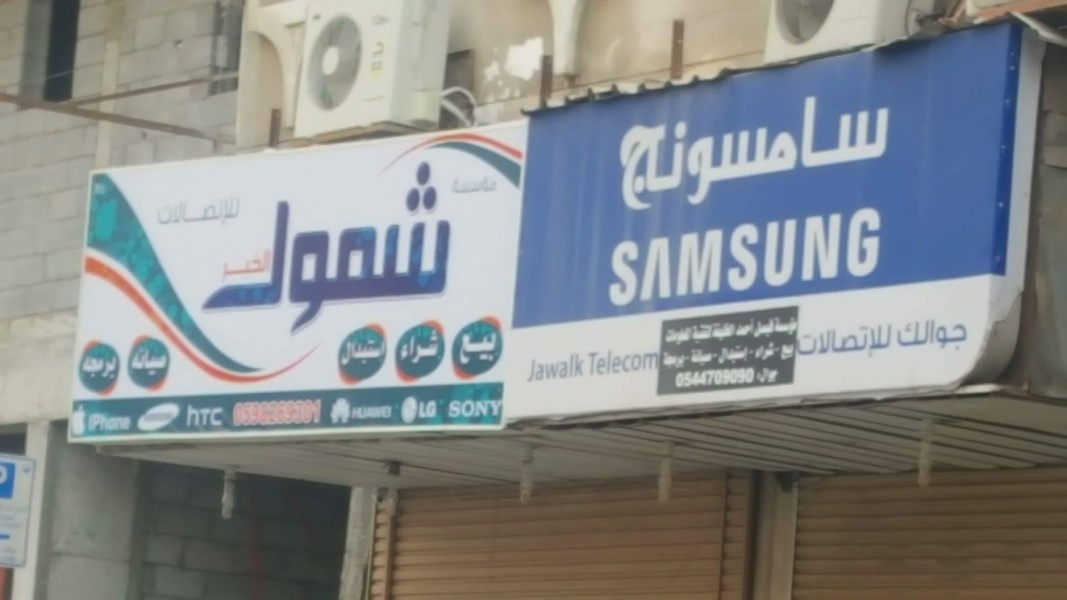text: (193, 154, 208, 346), (209, 154, 224, 346), (225, 154, 240, 346), (241, 154, 256, 346), (257, 154, 272, 346), (273, 154, 288, 346), (289, 154, 304, 346), (305, 154, 320, 346), (321, 154, 336, 346), (337, 154, 352, 346), (353, 154, 368, 346), (369, 154, 384, 346), (385, 154, 400, 346), (401, 154, 416, 346), (417, 154, 432, 346), (433, 154, 448, 346), (625, 83, 640, 219), (641, 83, 656, 219), (657, 83, 672, 219), (673, 83, 688, 219), (689, 83, 704, 219), (705, 83, 720, 219), (721, 83, 736, 219), (737, 83, 752, 219), (753, 83, 768, 219), (769, 83, 784, 219), (785, 83, 800, 219), (801, 83, 816, 219), (817, 83, 832, 219), (833, 83, 848, 219), (849, 83, 864, 219), (865, 83, 880, 219), (881, 83, 896, 219), (609, 203, 624, 309), (625, 203, 640, 309), (641, 203, 656, 309), (657, 203, 672, 309), (673, 203, 688, 309), (689, 203, 704, 309), (705, 203, 720, 309), (721, 203, 736, 309), (737, 203, 752, 309), (753, 203, 768, 309), (769, 203, 784, 309), (785, 203, 800, 309), (801, 203, 816, 309), (817, 203, 832, 309), (833, 203, 848, 309), (849, 203, 864, 309), (865, 203, 880, 309), (449, 154, 455, 346), (616, 83, 624, 219), (881, 203, 891, 309), (785, 311, 801, 349), (801, 322, 816, 362), (817, 322, 832, 362), (833, 322, 848, 362), (849, 322, 864, 362), (865, 322, 880, 362), (189, 154, 192, 346), (465, 330, 480, 368), (481, 330, 496, 368), (401, 329, 416, 367), (417, 329, 432, 367), (673, 311, 688, 349), (689, 311, 704, 349), (705, 311, 720, 349), (721, 311, 736, 349), (737, 311, 752, 349), (753, 311, 768, 349), (769, 311, 784, 349), (881, 322, 895, 362), (225, 246, 240, 283), (241, 246, 256, 283), (257, 246, 272, 283), (161, 195, 176, 230), (177, 195, 192, 230), (193, 195, 208, 230), (209, 195, 224, 230), (225, 195, 240, 230), (897, 318, 912, 352), (913, 318, 928, 352), (929, 318, 944, 352), (945, 318, 960, 352), (673, 337, 688, 371), (689, 337, 704, 371), (705, 337, 720, 371), (721, 337, 736, 371), (737, 337, 752, 371), (753, 337, 768, 371), (769, 337, 784, 371), (545, 351, 560, 383), (561, 351, 576, 383), (353, 337, 368, 369), (369, 337, 384, 369), (145, 346, 160, 377), (593, 349, 608, 379), (609, 349, 624, 379), (625, 349, 640, 379), (641, 349, 656, 379), (530, 351, 544, 383), (785, 337, 798, 371), (81, 353, 96, 382), (97, 353, 112, 382), (241, 399, 256, 427), (257, 399, 272, 427), (273, 399, 288, 427), (289, 399, 304, 427), (305, 399, 320, 427), (339, 337, 352, 369), (131, 346, 144, 377), (673, 364, 688, 390), (689, 364, 704, 390), (705, 364, 720, 390), (721, 364, 736, 390), (737, 364, 752, 390), (209, 405, 225, 429), (193, 405, 208, 429), (417, 399, 432, 422), (605, 203, 608, 309), (449, 398, 464, 419), (465, 398, 480, 419), (481, 398, 496, 419), (465, 176, 480, 197), (481, 176, 496, 197), (97, 412, 112, 432), (113, 412, 128, 432), (961, 318, 969, 352), (664, 337, 672, 371), (353, 404, 368, 422), (369, 404, 384, 422), (433, 329, 440, 367), (577, 351, 585, 383), (452, 176, 464, 197), (794, 322, 800, 362), (769, 366, 781, 386), (161, 346, 168, 377), (86, 412, 96, 432), (758, 366, 768, 386), (233, 399, 240, 427), (459, 330, 464, 368), (667, 311, 672, 349), (433, 399, 441, 422), (385, 404, 395, 422), (587, 349, 592, 379), (657, 349, 662, 379), (220, 246, 224, 283), (113, 353, 118, 382), (897, 83, 898, 219), (497, 398, 503, 419), (187, 405, 192, 429), (321, 399, 325, 427), (157, 195, 160, 230), (753, 364, 757, 390), (273, 246, 275, 283), (241, 195, 243, 230), (385, 337, 387, 369), (129, 412, 132, 432), (497, 330, 498, 368), (399, 329, 400, 367), (351, 404, 352, 422)
